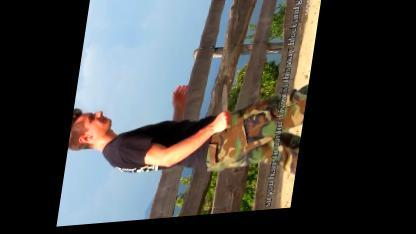knife: (218, 82, 244, 138)
